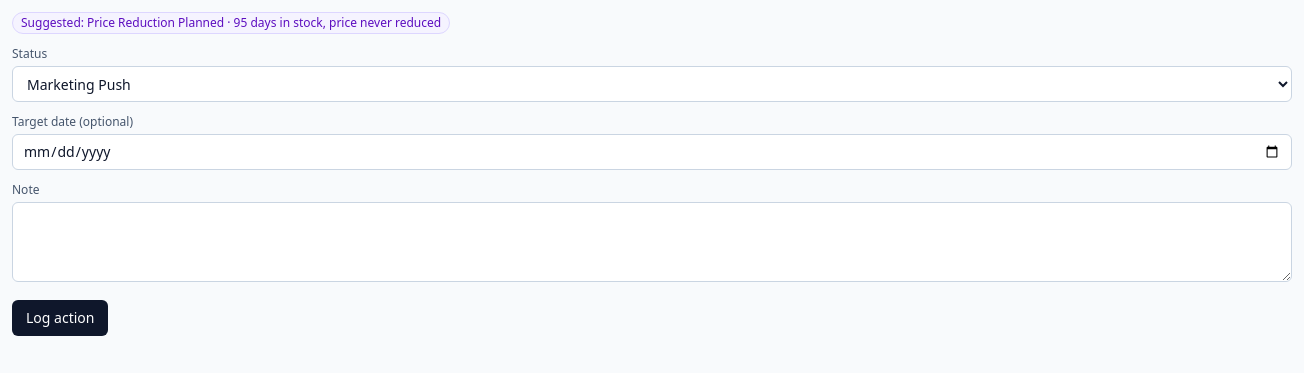
Scenario: ActionForm › blocks submit when a required target date is missing
Select "On Hold" in the dropdown labelled "Status": {"x": 652, "y": 84} left=12, top=66, right=1292, bottom=102
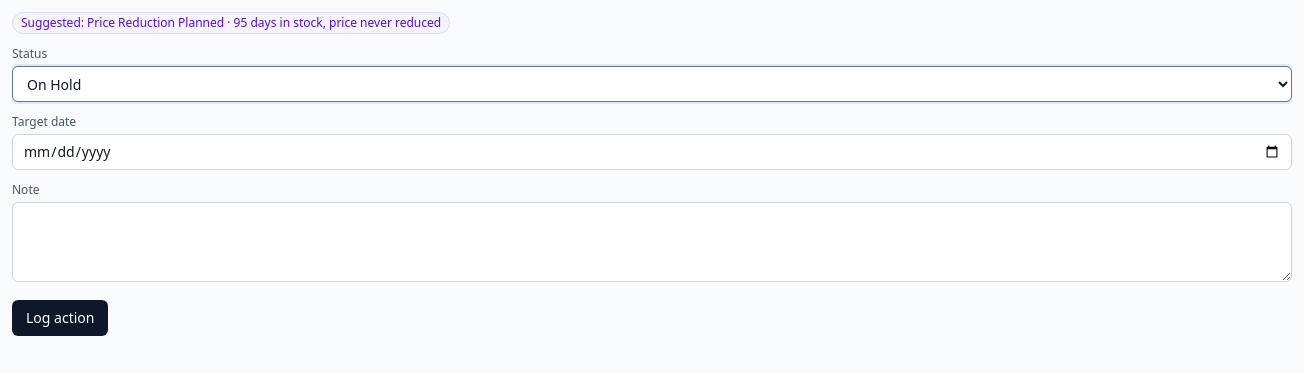
Click the button "Log action": {"x": 60, "y": 318} left=12, top=300, right=108, bottom=336
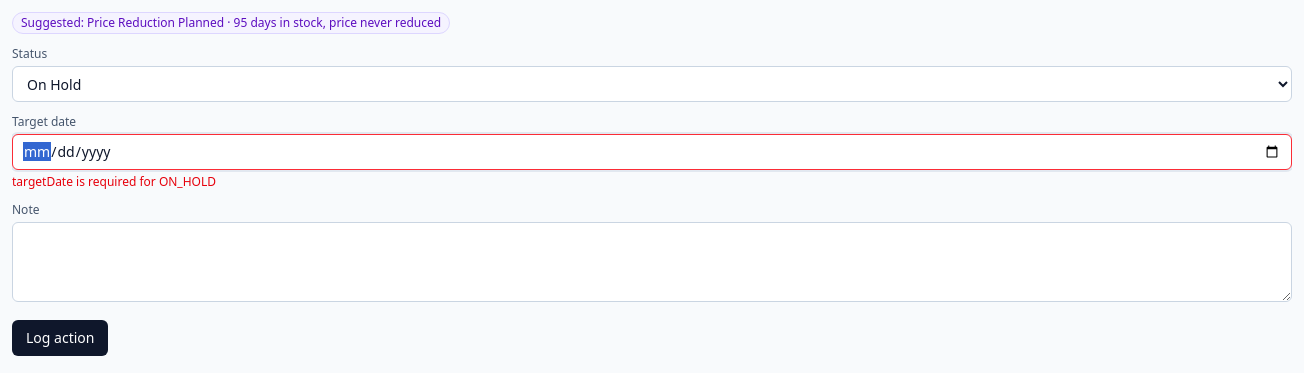
Check: the text "targetDate is required for ON_HOLD" is shown, box left=12, top=173, right=216, bottom=190
